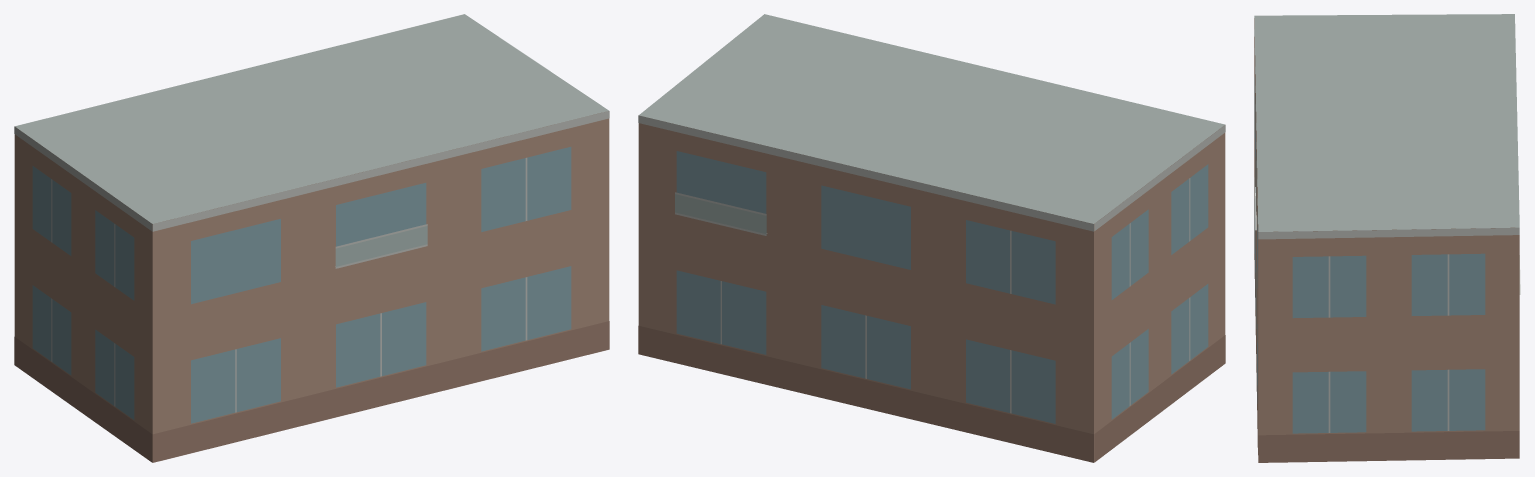
The model's file is survey-upis-32493971.glb.
The picture shows the model from 3 angles, left to right: view 1: azimuth 30°, elevation 25°; view 2: azimuth 150°, elevation 25°; view 3: azimuth 270°, elevation 25°; orthographic projection. The views are drawn at different scales.
Parts seen in each view (by area): view 1: survey-upis-32493971.tmp; view 2: survey-upis-32493971.tmp; view 3: survey-upis-32493971.tmp.
Boxes of the visible parts, <box> form: survey-upis-32493971.tmp: <box>14,14,609,462</box>; survey-upis-32493971.tmp: <box>638,14,1225,462</box>; survey-upis-32493971.tmp: <box>1254,14,1520,462</box>.
Bounding box in the file's own units: 15.4 × 7.6 × 7.95.
